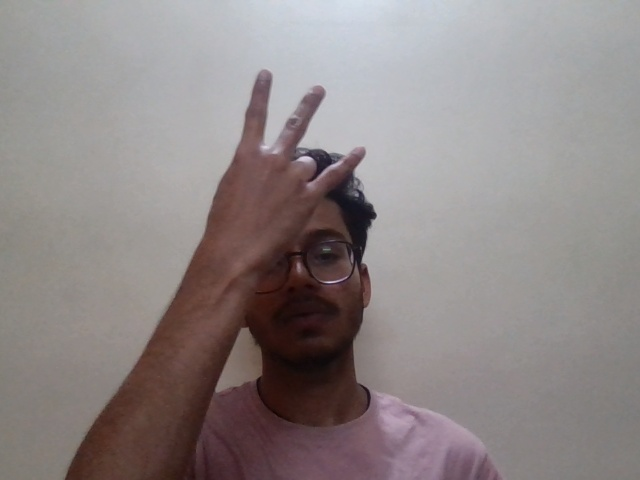why: (226, 69, 389, 246)
